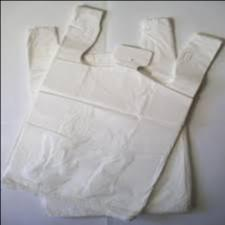Plastic: (3, 4, 223, 224)
